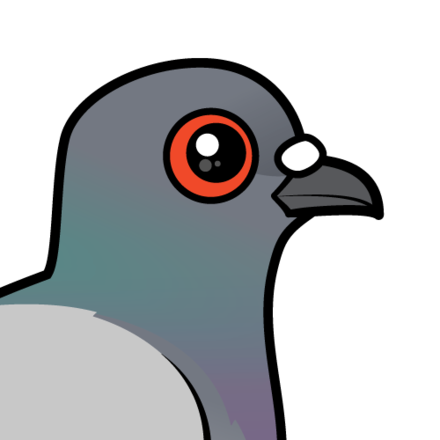Flying Rat: (1, 59, 390, 440)
